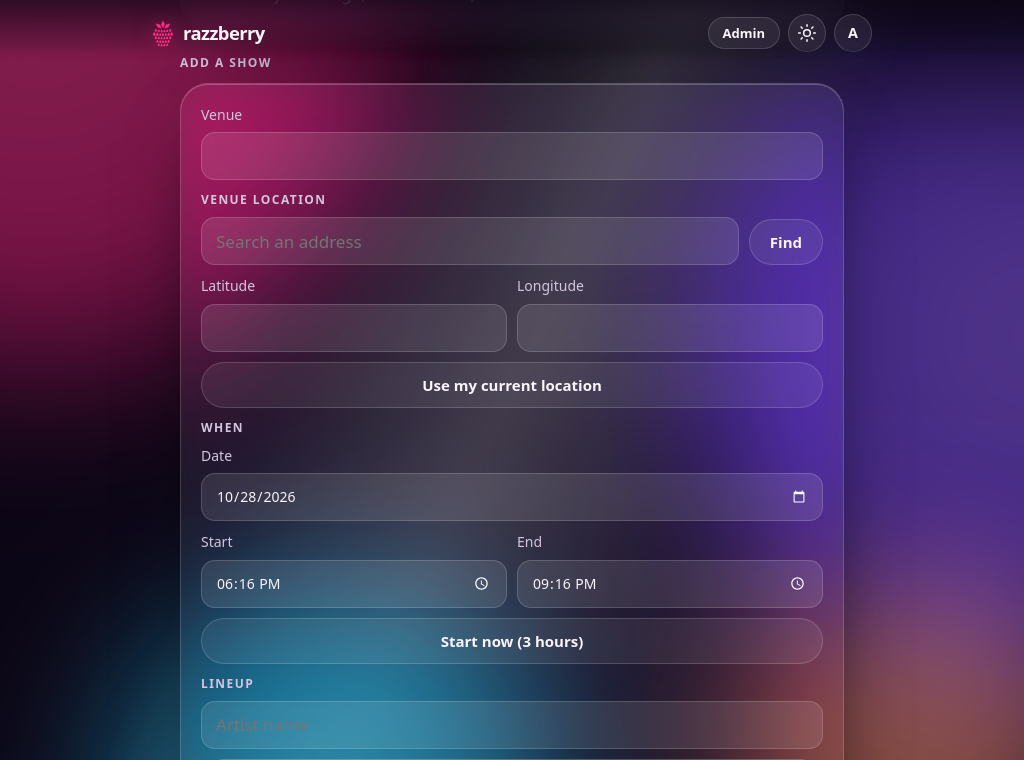
it: admin page › fills in the location from the phone's position
The width and height of the screenshot is (1024, 760).
(page scrolled)
Click the button "Use my current location": (512, 385) [201,362,823,408]
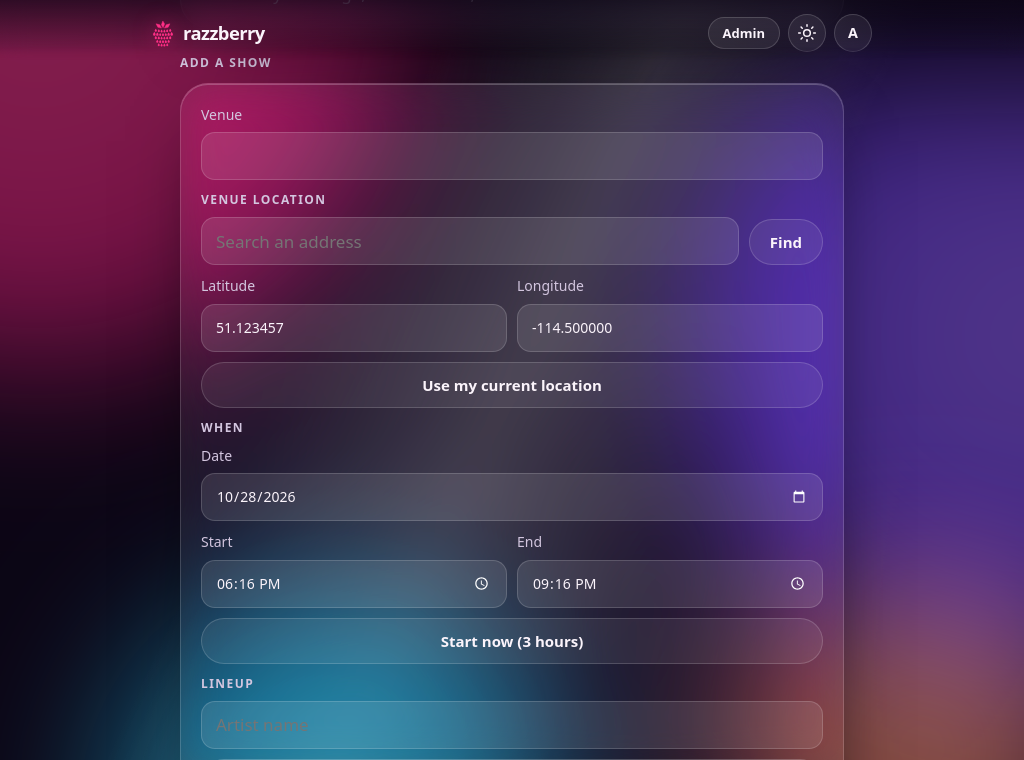
Expected: the field labelled "Latitude" holds "51.123457", [201,304,507,352]
Expected: the field labelled "Longitude" holds "-114.500000", [517,304,823,352]
